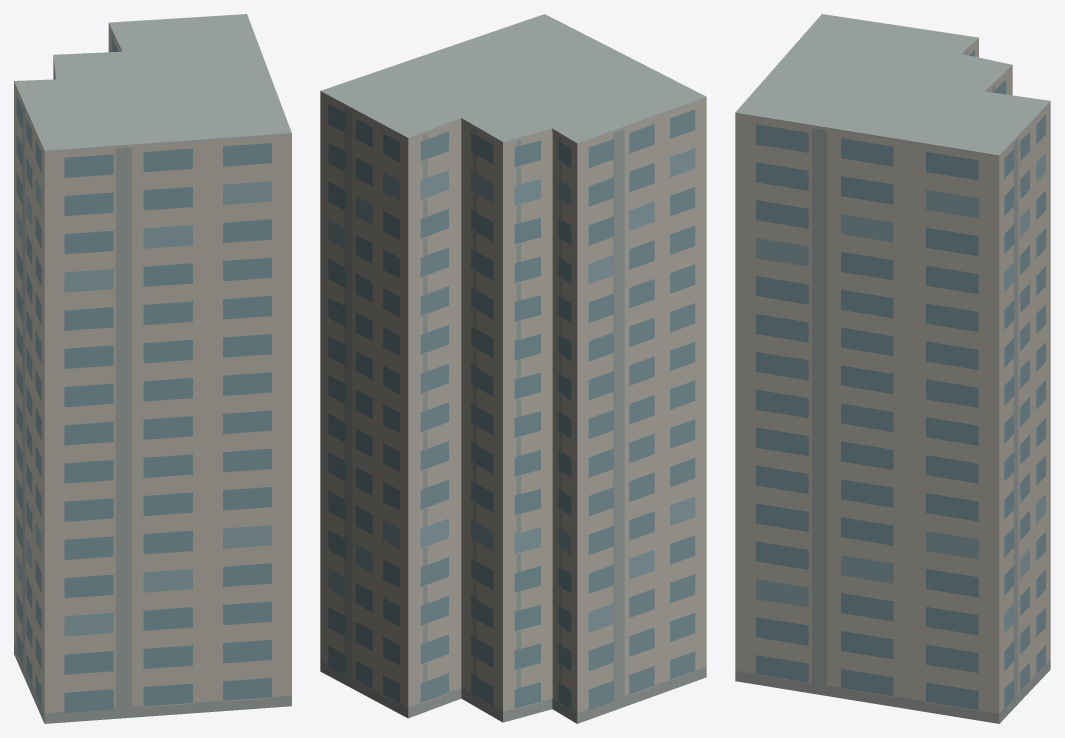
Rendered from residential-39a13146-0788-4b57-a5ab-6512937ae770.glb.
3 renders of one model, left to right at view 1: azimuth 30°, elevation 25°; view 2: azimuth 150°, elevation 25°; view 3: azimuth 270°, elevation 25°, orthographic. The views are drawn at different scales.
Visible parts, largest first — view 1: residential-39a13146-0788-4b57-a5ab-6512937ae770.tmp; view 2: residential-39a13146-0788-4b57-a5ab-6512937ae770.tmp; view 3: residential-39a13146-0788-4b57-a5ab-6512937ae770.tmp.
Part boxes in pixels (x1,y1,x2,y2): residential-39a13146-0788-4b57-a5ab-6512937ae770.tmp: [14, 14, 291, 723]; residential-39a13146-0788-4b57-a5ab-6512937ae770.tmp: [320, 14, 706, 723]; residential-39a13146-0788-4b57-a5ab-6512937ae770.tmp: [735, 14, 1050, 723].
Bounding box in the file's own units: 24.54 × 46 × 23.14.
